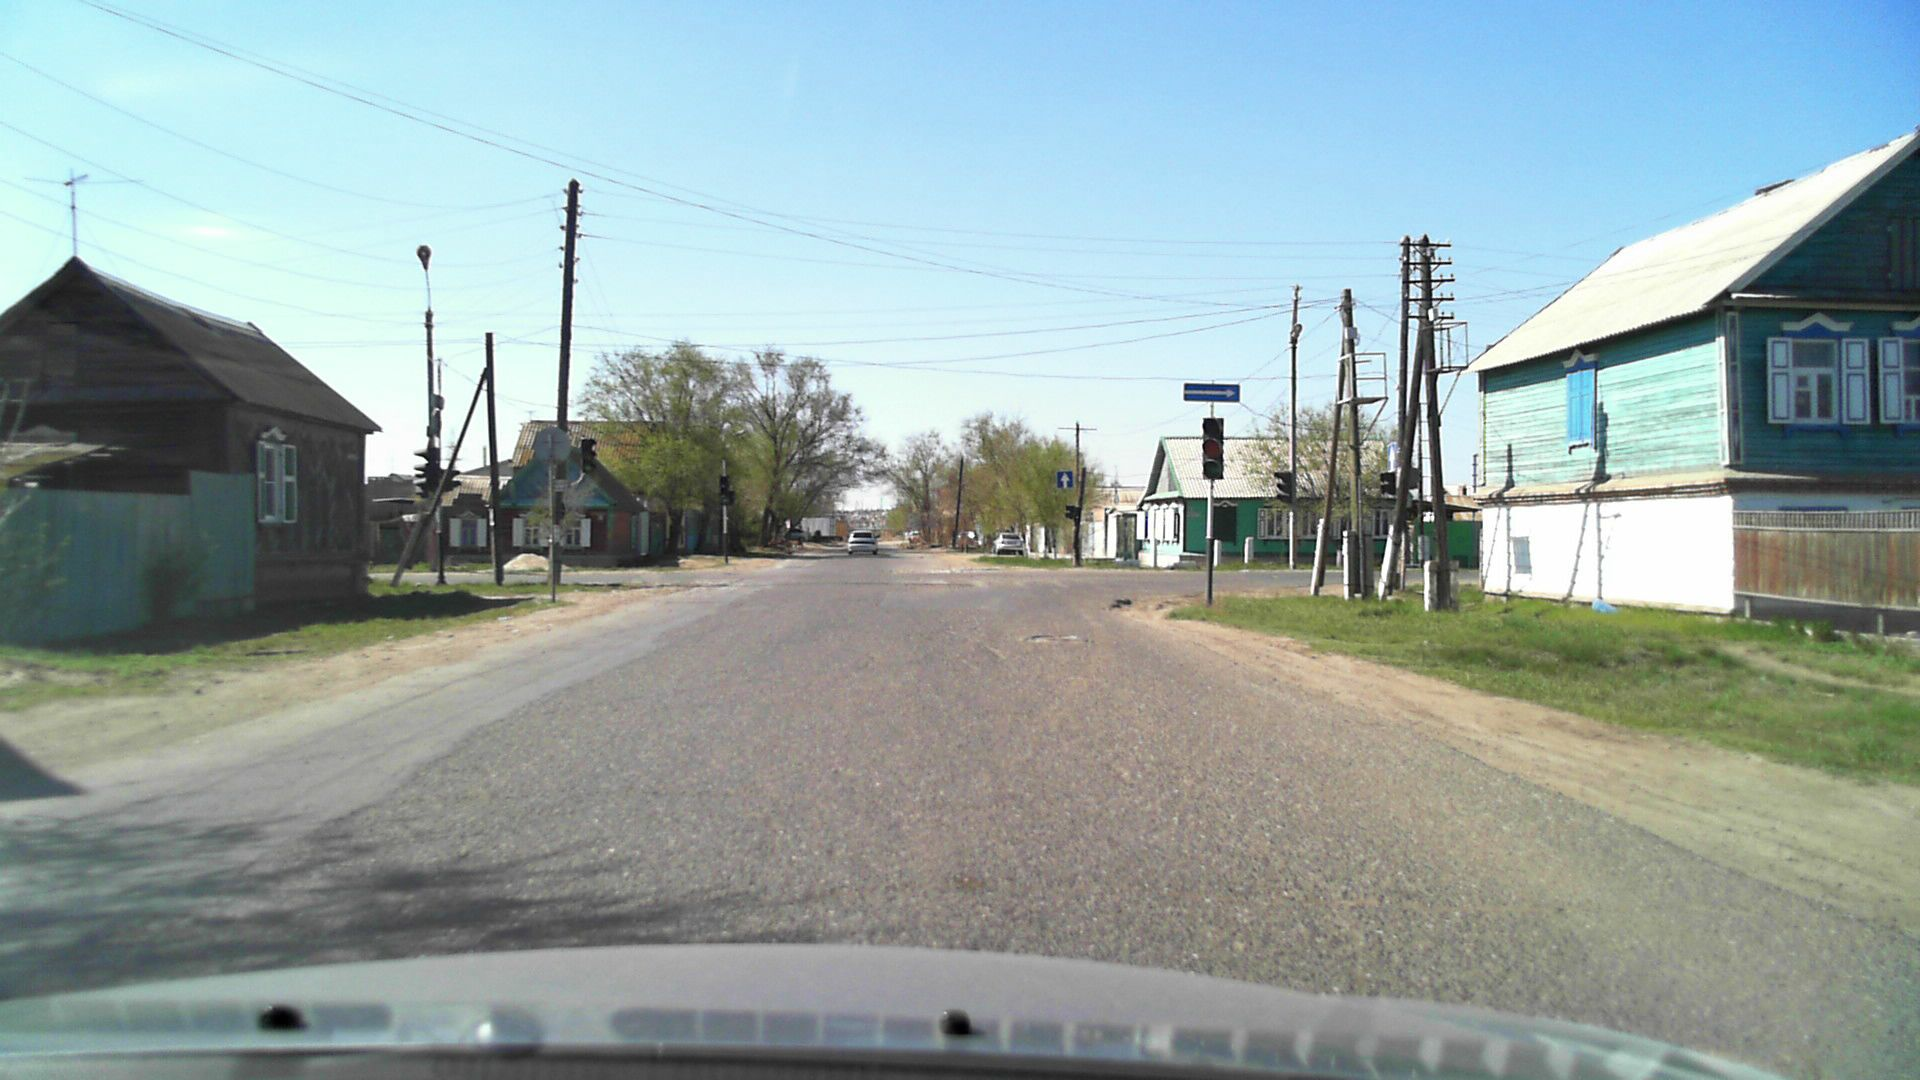One-Way Traffic: (1183, 382, 1240, 402)
